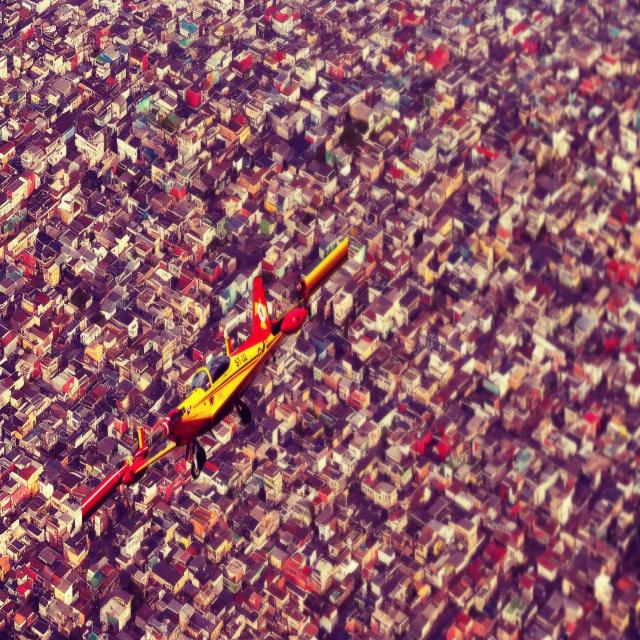airplane: (68, 234, 350, 530)
